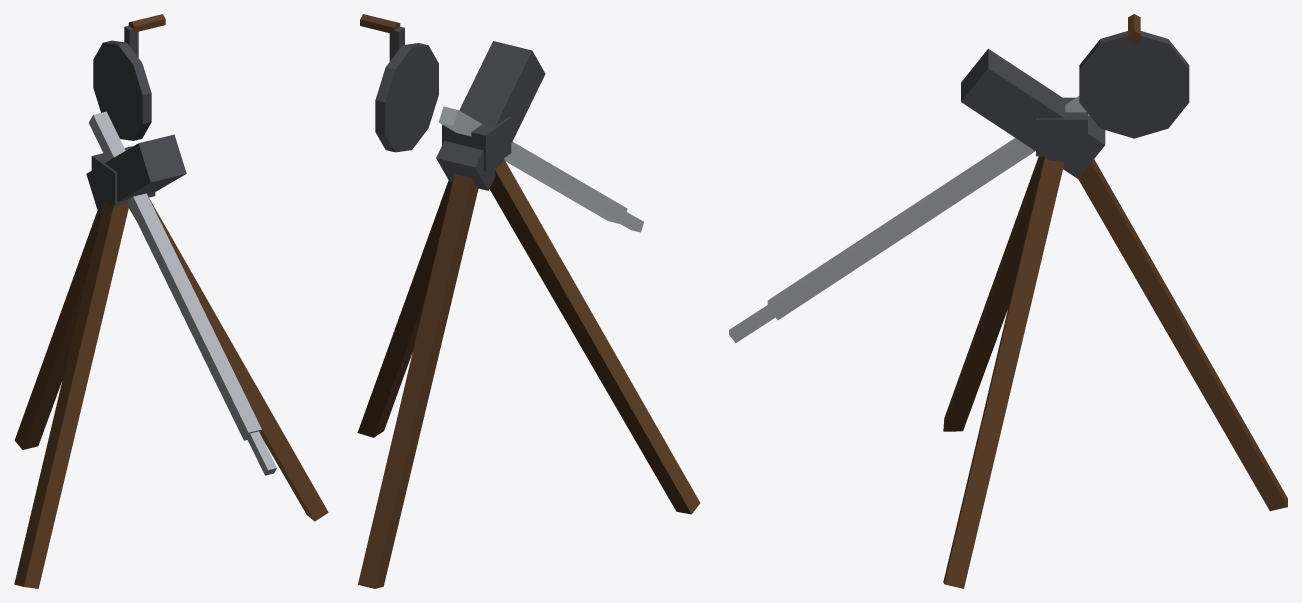
File: mine_drill_hand.glb
3 views of the same model, side by side, from view 1: azimuth 30°, elevation 25°; view 2: azimuth 150°, elevation 25°; view 3: azimuth 270°, elevation 25° (orthographic). The views are drawn at different scales.
Parts seen in each view (by area): view 1: mine_drill_hand; view 2: mine_drill_hand; view 3: mine_drill_hand.
Boxes of the visible parts, box(x1,y1,x2,y2) form: mine_drill_hand: box(14, 14, 328, 588); mine_drill_hand: box(357, 14, 700, 588); mine_drill_hand: box(729, 14, 1287, 588).
Bounding box in the file's own units: 1.37 × 1.97 × 1.93.
